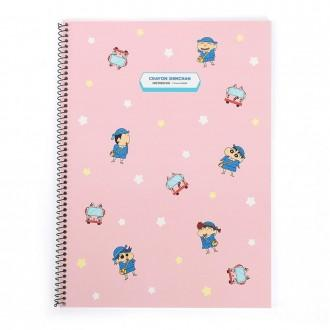book: (56, 17, 275, 311)
